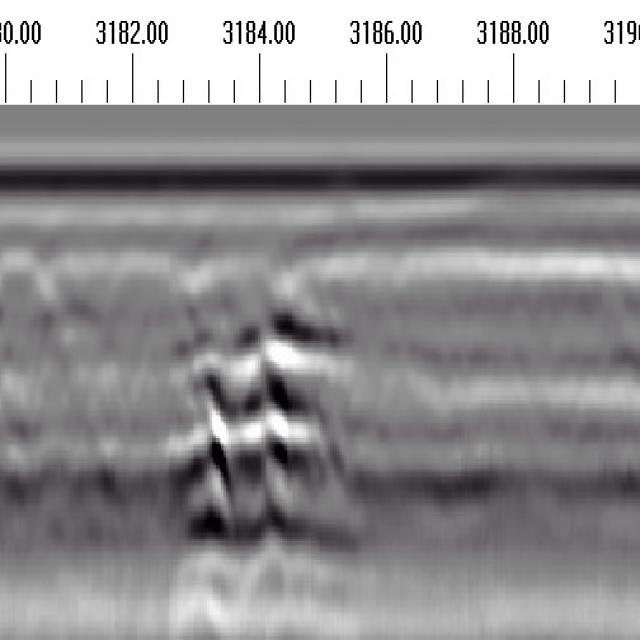loose: (159, 274, 370, 611)
